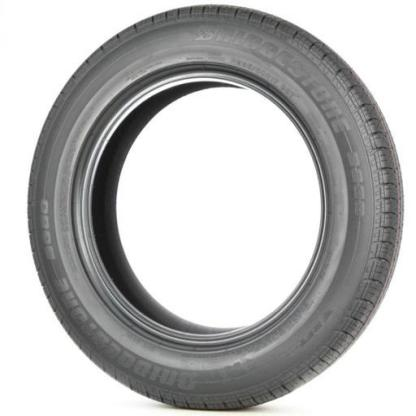Tire: (24, 3, 405, 411)
